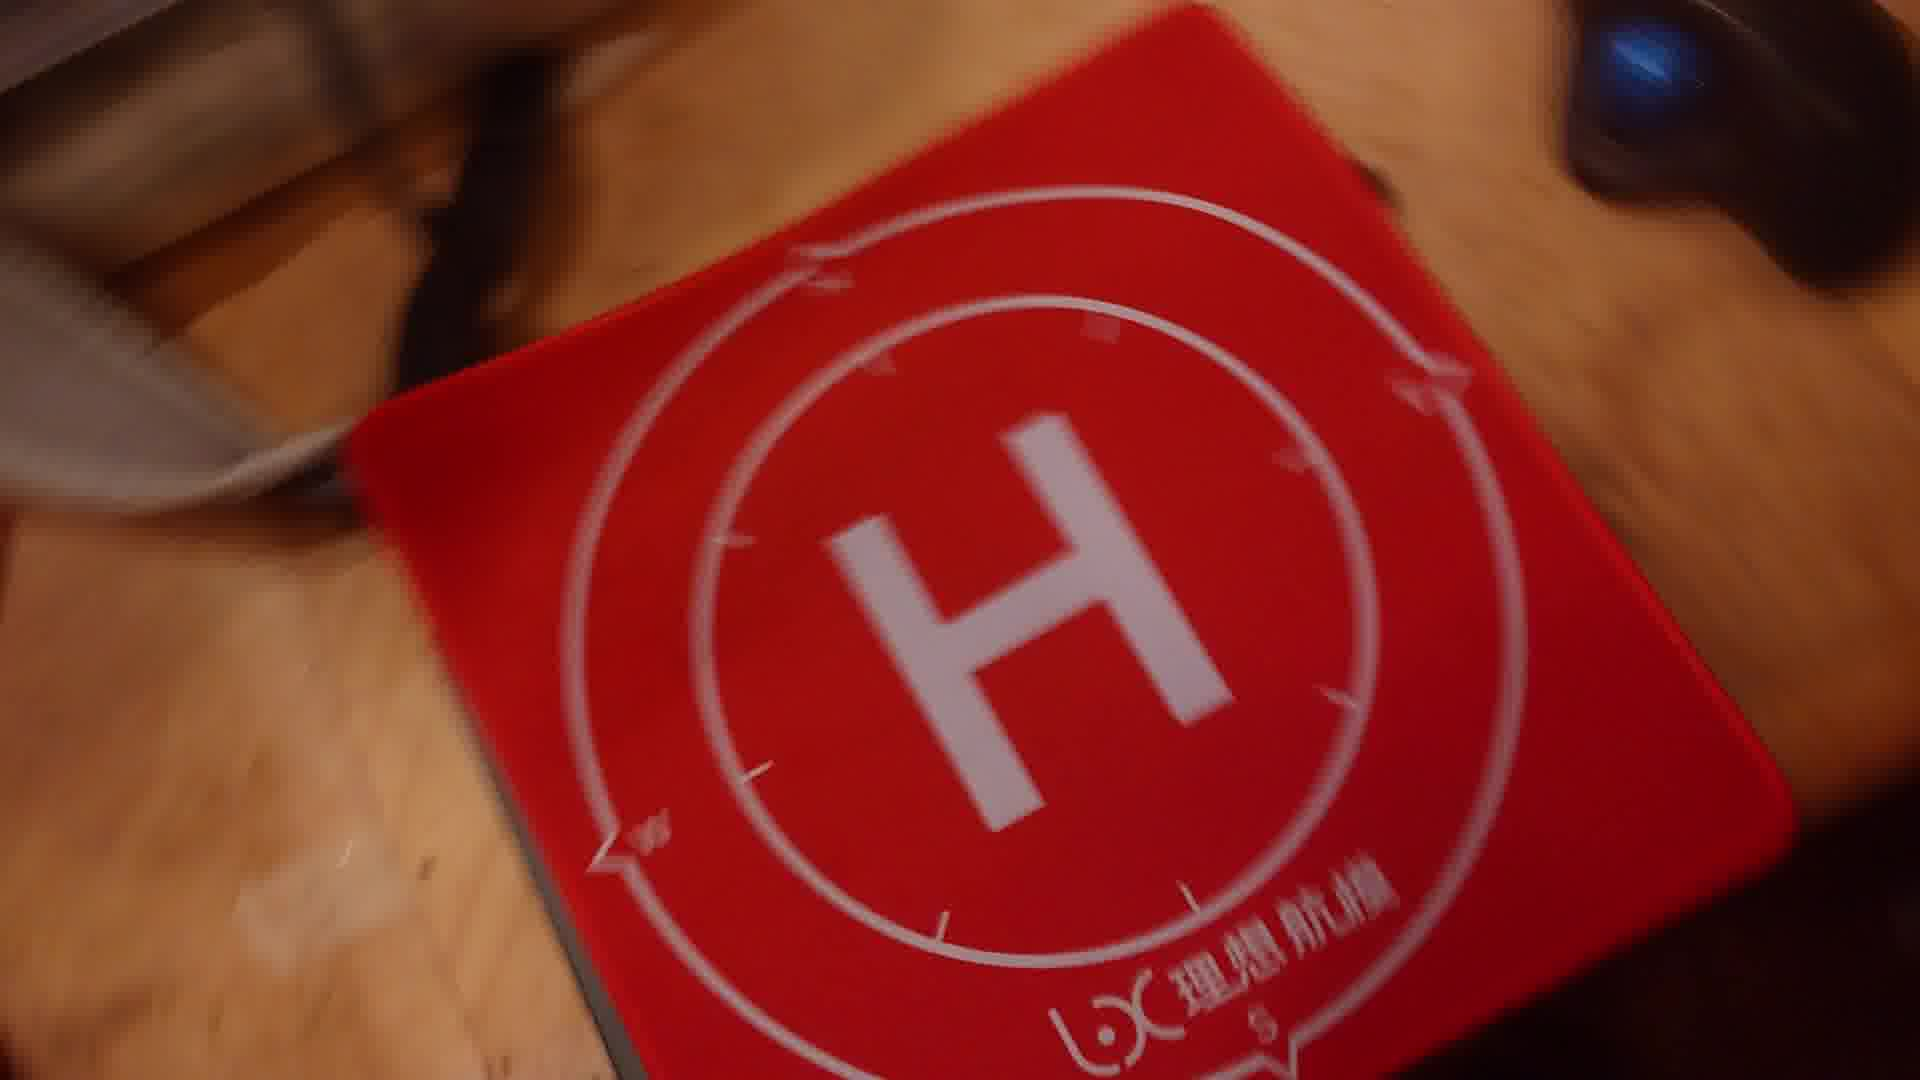H: (825, 411, 1244, 839)
